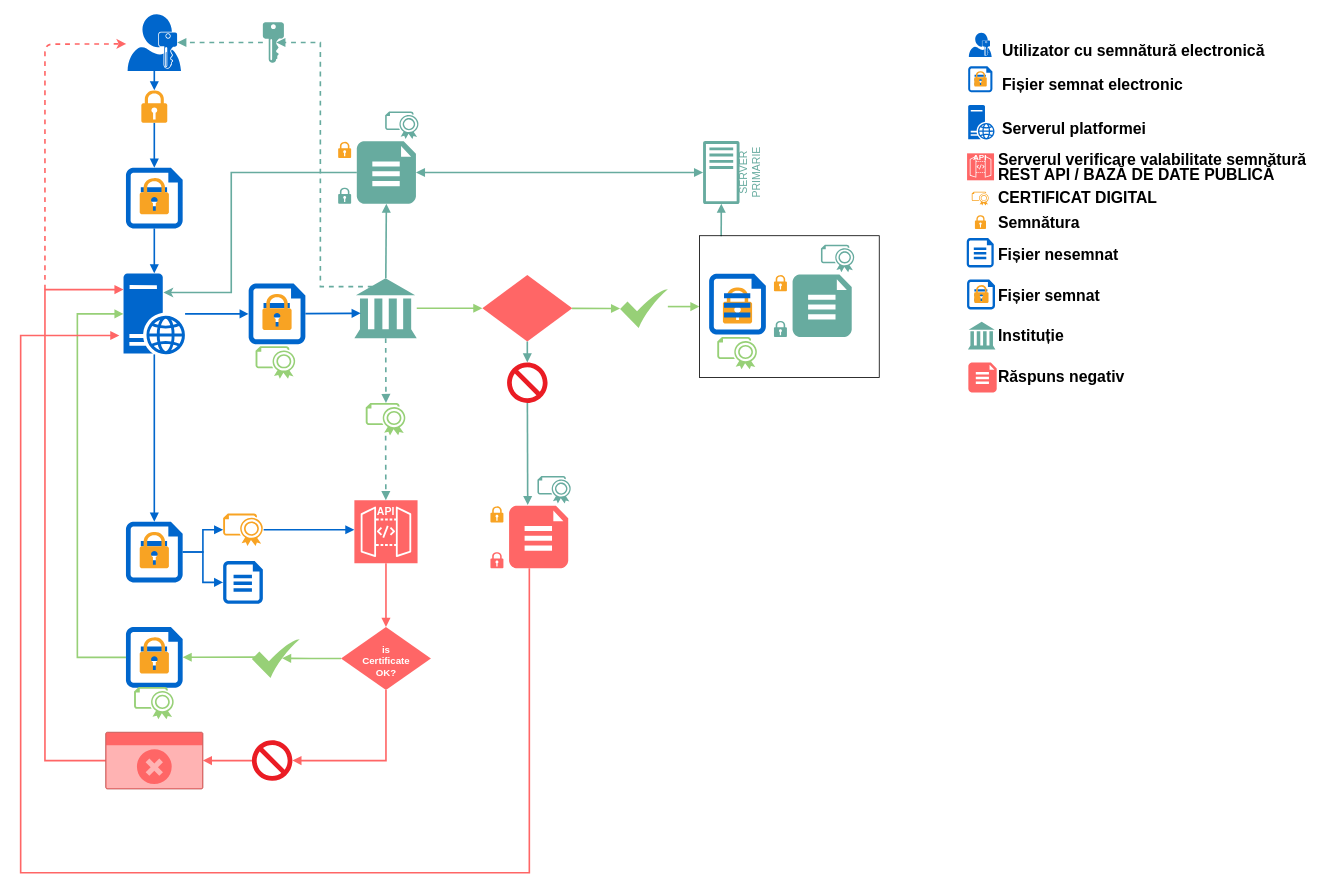
The diagram is 1320 pixels wide and 893 high, and some of its shapes have lost their labels. Here are the shapes that lost their labels. From the top down, the box of each, then its label:
(482, 275, 572, 341): Acte în regulă?
(105, 731, 203, 789): Error
